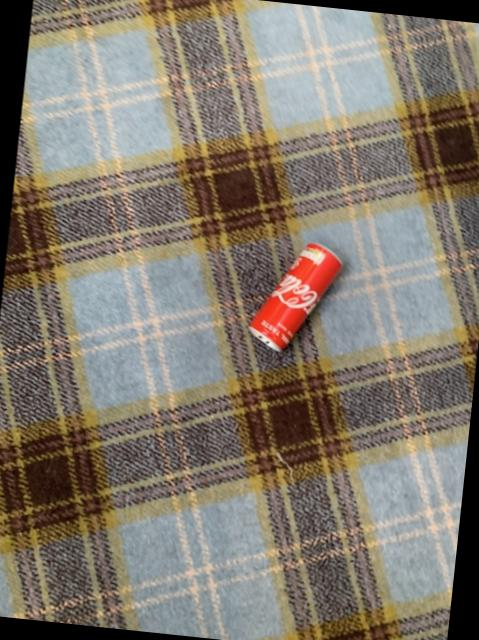metal: (249, 245, 342, 353)
